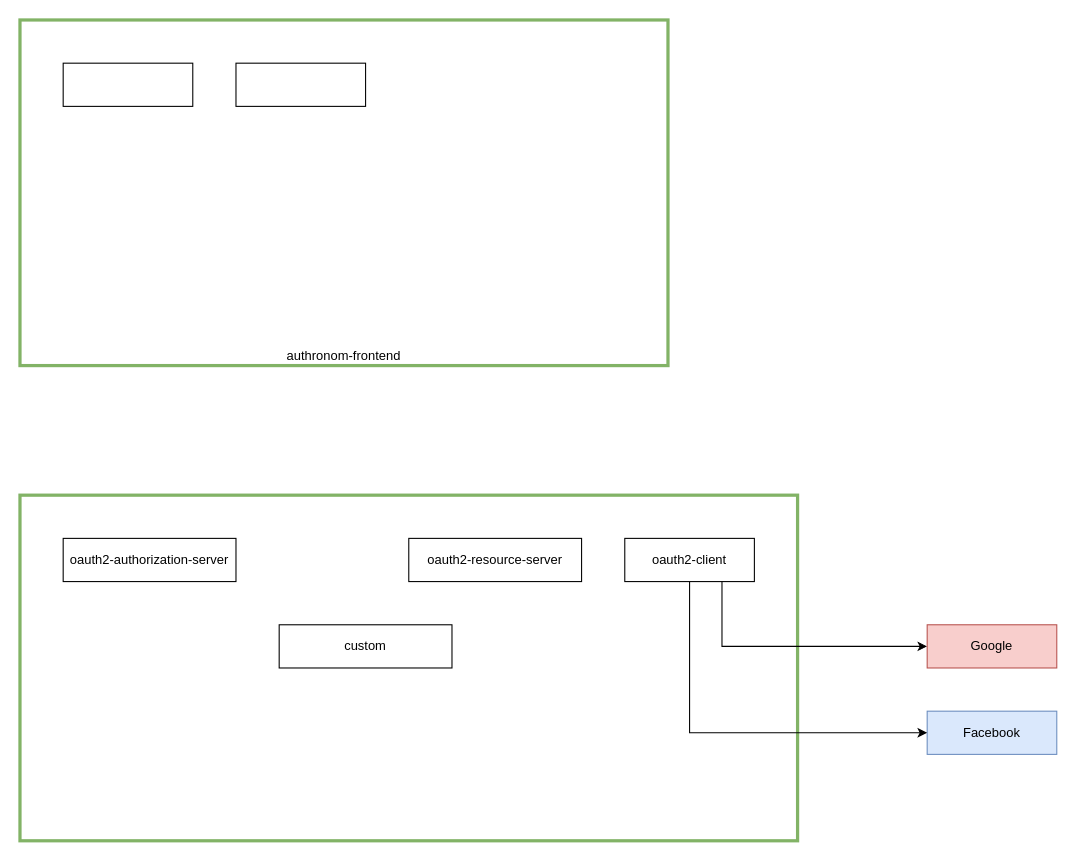
This 1076x861 diagram has some shape labels left out. The box of each missing label's shape, as (x1, y1, x2, y2) in pixels:
authronom-backend: (18, 493, 799, 842)
login: (62, 62, 193, 106)
registration: (235, 62, 366, 106)
